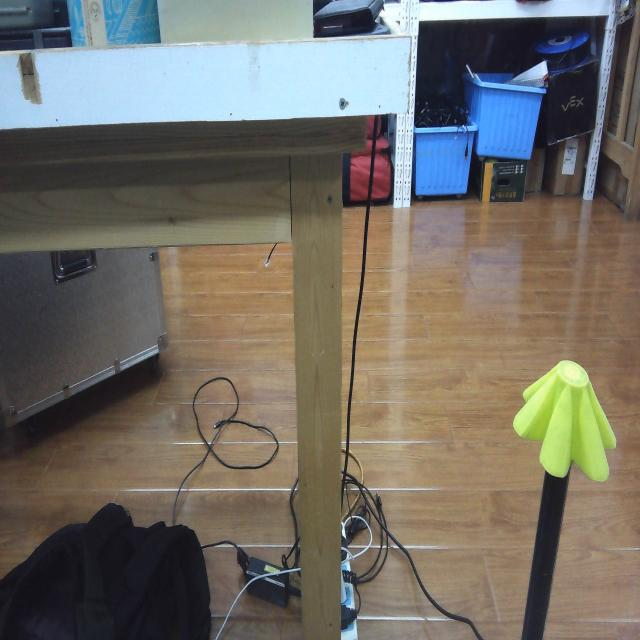Yellow-Stake-Head: (513, 360, 617, 482)
